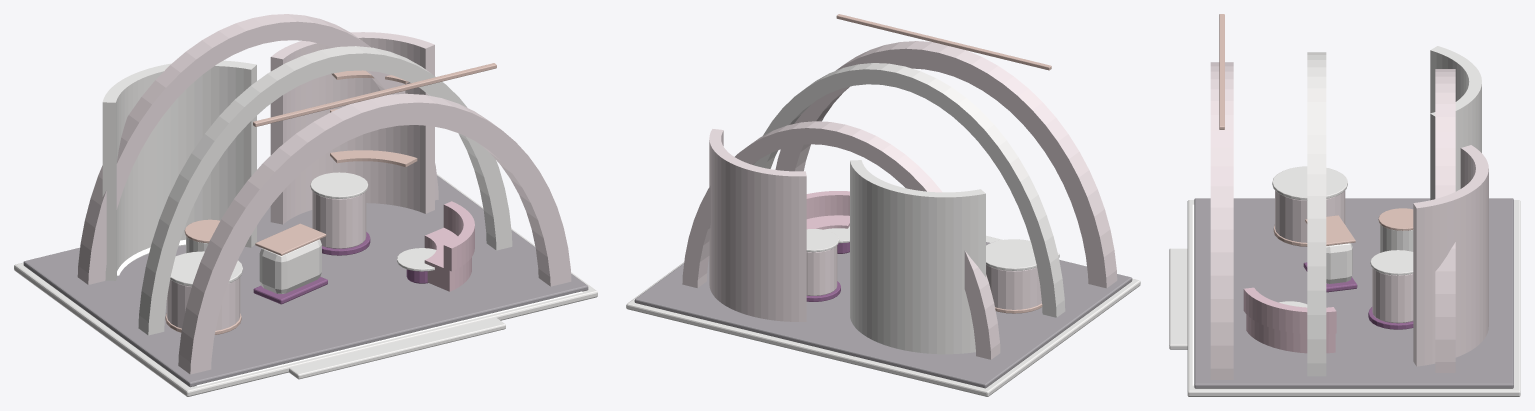
File: booth_02_organic_flow_v27_4.glb
The picture shows the model from 3 angles, left to right: view 1: azimuth 30°, elevation 25°; view 2: azimuth 150°, elevation 25°; view 3: azimuth 270°, elevation 25°; orthographic projection. The views are drawn at different scales.
Parts seen in each view (by area): view 1: MatGroup_BlushPlaster, MatGroup_GalleryIvory, MatGroup_TerrazzoFloor, MatGroup_RoseGoldTrim, MatGroup_BlushVelvet, MatGroup_DeepPlumAccent, MatGroup_SoftGalleryGlow; view 2: MatGroup_BlushPlaster, MatGroup_GalleryIvory, MatGroup_TerrazzoFloor, MatGroup_BlushVelvet, MatGroup_RoseGoldTrim; view 3: MatGroup_TerrazzoFloor, MatGroup_BlushPlaster, MatGroup_GalleryIvory, MatGroup_BlushVelvet, MatGroup_RoseGoldTrim, MatGroup_DeepPlumAccent, MatGroup_SoftGalleryGlow.
Boxes of the visible parts, bbox=[...] form: MatGroup_BlushPlaster: bbox=[77, 14, 571, 374]; MatGroup_GalleryIvory: bbox=[14, 46, 597, 396]; MatGroup_TerrazzoFloor: bbox=[23, 175, 588, 387]; MatGroup_RoseGoldTrim: bbox=[165, 63, 496, 334]; MatGroup_BlushVelvet: bbox=[424, 201, 474, 291]; MatGroup_DeepPlumAccent: bbox=[253, 232, 427, 304]; MatGroup_SoftGalleryGlow: bbox=[117, 239, 582, 386]; MatGroup_BlushPlaster: bbox=[682, 41, 1117, 359]; MatGroup_GalleryIvory: bbox=[626, 63, 1140, 396]; MatGroup_TerrazzoFloor: bbox=[634, 242, 1132, 388]; MatGroup_BlushVelvet: bbox=[806, 191, 849, 229]; MatGroup_RoseGoldTrim: bbox=[836, 14, 1051, 313]; MatGroup_TerrazzoFloor: bbox=[1194, 198, 1513, 388]; MatGroup_BlushPlaster: bbox=[1210, 62, 1488, 379]; MatGroup_GalleryIvory: bbox=[1169, 46, 1520, 396]; MatGroup_BlushVelvet: bbox=[1243, 287, 1336, 353]; MatGroup_RoseGoldTrim: bbox=[1219, 14, 1413, 246]; MatGroup_DeepPlumAccent: bbox=[1303, 262, 1413, 329]; MatGroup_SoftGalleryGlow: bbox=[1192, 204, 1194, 385].
Size of the model in its own units: 6.72 by 3.82 by 5.19.
